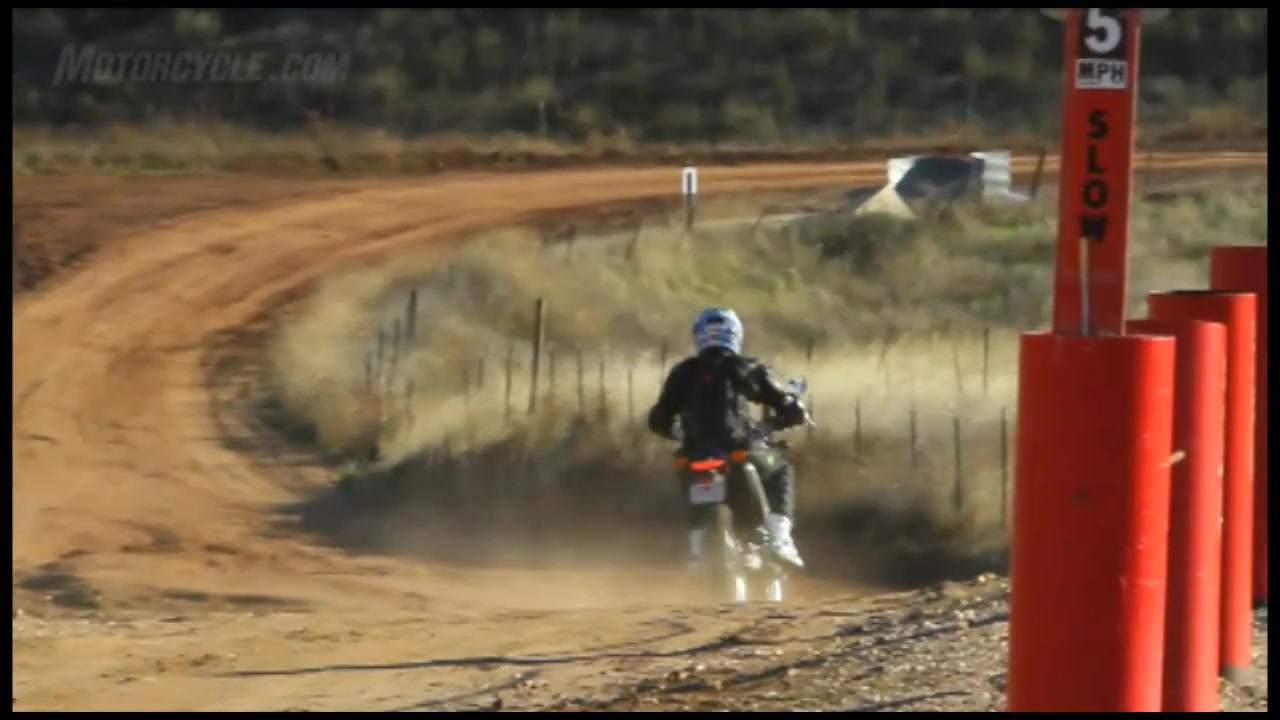motorbike: (665, 372, 813, 608)
